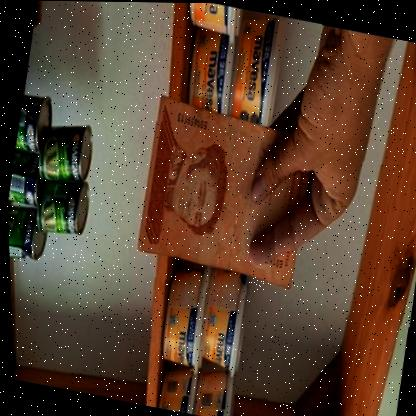twenty-front-vef: (127, 91, 321, 290)
